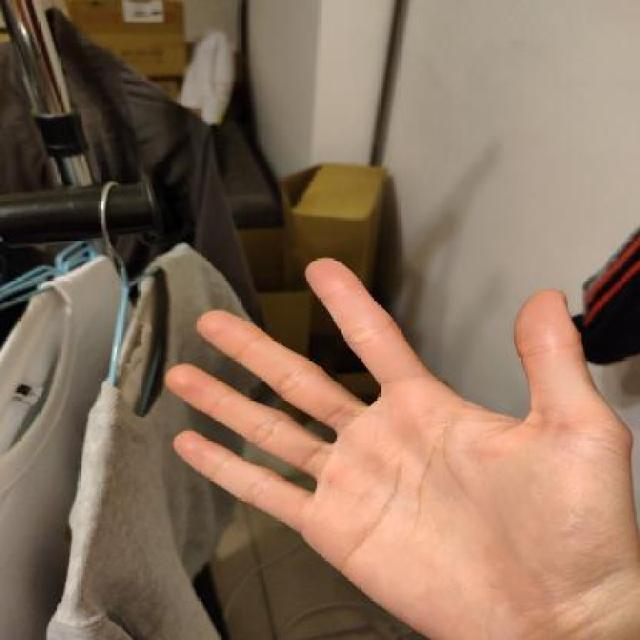bare_hand: (143, 244, 639, 638)
